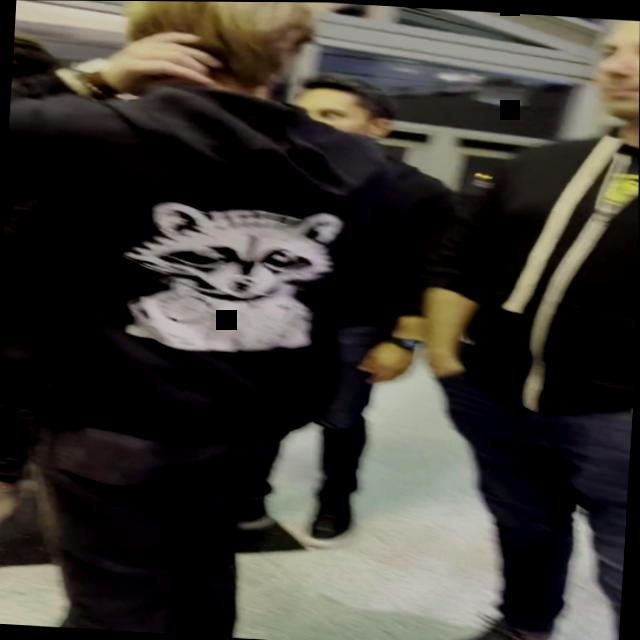NO-Mask: (597, 17, 640, 119), (292, 83, 372, 136)
